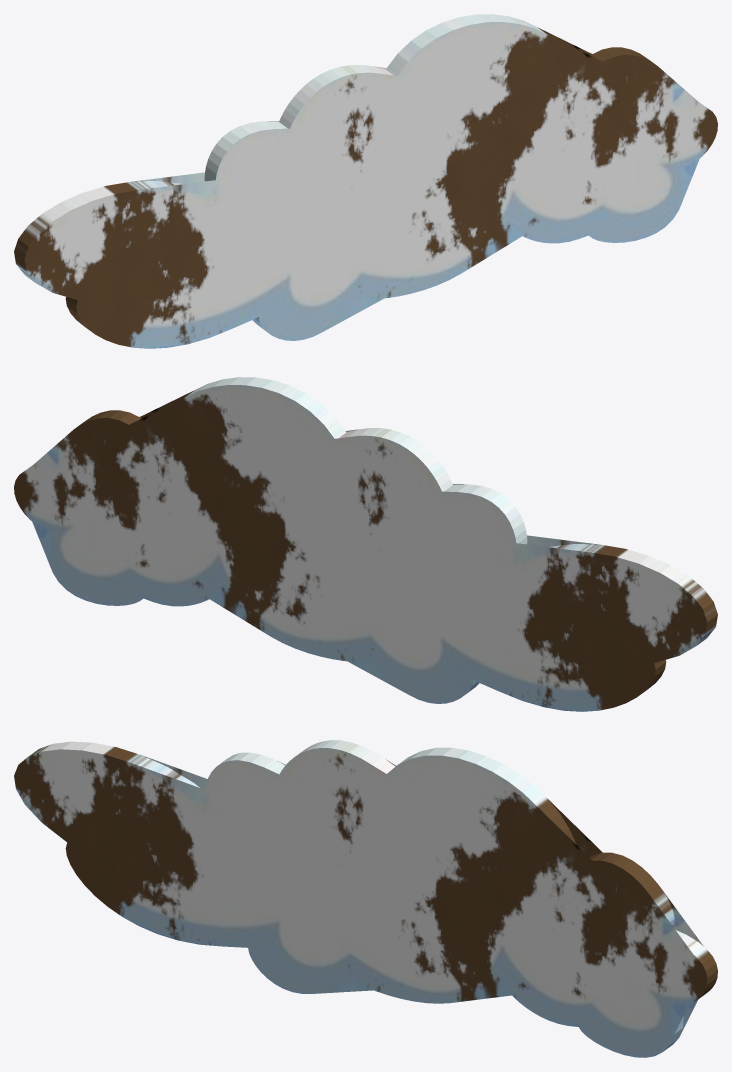
The model's file is nuve 3.fbx.
3 renders of one model, top to bottom at view 1: azimuth 30°, elevation 25°; view 2: azimuth 150°, elevation 25°; view 3: azimuth 330°, elevation 25°, orthographic.
Visible parts, largest first — view 1: nuve 3; view 2: nuve 3; view 3: nuve 3.
Boxes of the visible parts, left/top/right/bottom form: nuve 3: left=14, top=14, right=717, bottom=348; nuve 3: left=14, top=377, right=717, bottom=711; nuve 3: left=14, top=740, right=717, bottom=1057.
Bounding box in the file's own units: 669 × 253 × 17.73.
1 material, 1 textured.
